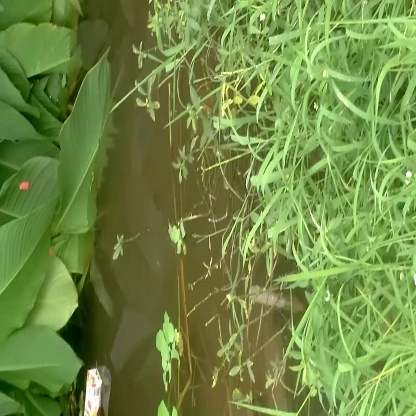milk-box: (71, 358, 114, 416)
